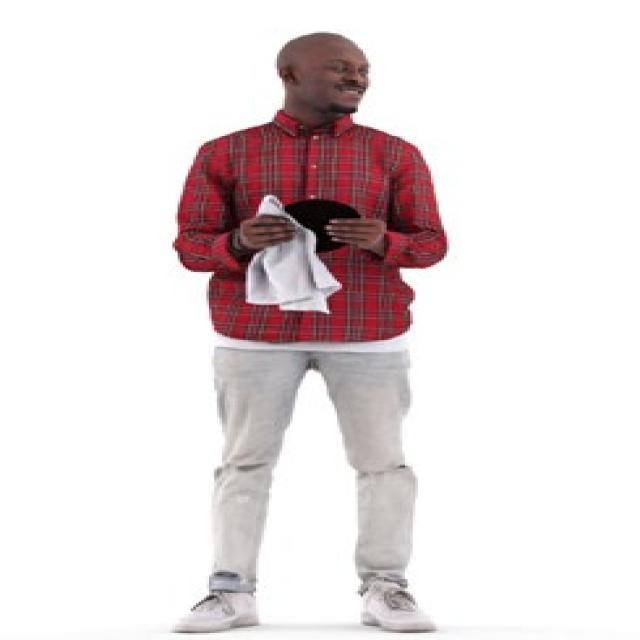standing: (166, 29, 450, 640)
